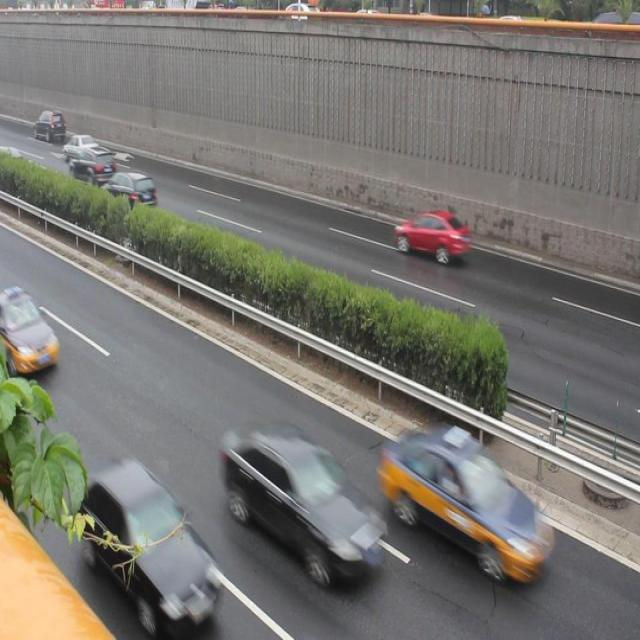car: (385, 416, 552, 588), (225, 421, 386, 597), (75, 458, 227, 617), (1, 283, 59, 384), (388, 206, 470, 270), (105, 165, 156, 211), (76, 149, 116, 190), (33, 110, 70, 146), (64, 130, 102, 163)
